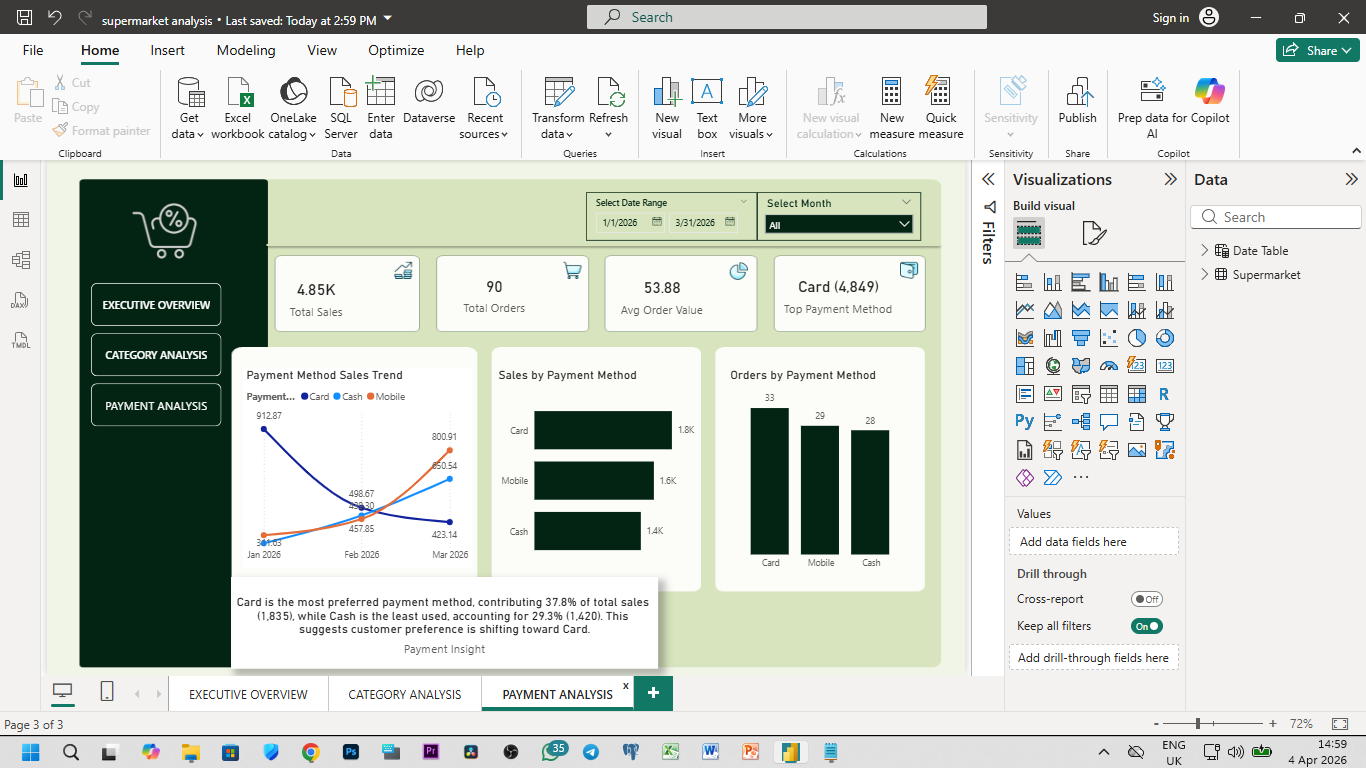

This screenshot's page, from the dashboard's own definition file:
{"tool":"powerbi","page":{"name":"PAYMENT ANALYSIS ","canvas":[1280,720],"ordinal":2},"visuals":[{"type":"card","fields":{"Values":["Supermarket.Total Sales"]},"box":[294.5,149.7,162.4,82.8],"z":0},{"type":"card","fields":{"Values":["Supermarket.Avg Order Value"]},"box":[780.1,143.3,156,89.2],"z":1000},{"type":"columnChart","title":"Total Orders by Payment Method","fields":{"Y":["Supermarket.Total Orders"],"Category":["Supermarket.PaymentMethod"]},"box":[936.1,289.8,262.7,291.3],"z":2000},{"type":"slicer","fields":{"Values":["Date Table.Date"]},"box":[751.4,44.6,238.8,68.5],"z":3000},{"type":"slicer","fields":{"Values":["Date Table.Month Year"]},"box":[990.2,44.6,229.3,68.5],"z":4000},{"type":"pageNavigator","box":[58.6,171.6,182.8,200.9],"z":5000},{"type":"lineChart","title":"Payment Method Sales Trend","fields":{"Category":["Date Table.Month Year"],"Y":["Supermarket.Total Sales"],"Series":["Supermarket.PaymentMethod"]},"box":[278.6,289.8,320,280.2],"z":6000},{"type":"clusteredBarChart","title":"Total Sales by Payment Method","fields":{"Category":["Supermarket.PaymentMethod"],"Y":["Supermarket.Total Sales"]},"box":[625.7,289.8,285,291.3],"z":7000},{"type":"card","fields":{"Values":["Supermarket.Payment Insight"]},"box":[256.7,581.9,595.8,128.4],"z":8000},{"type":"card","fields":{"Values":["Supermarket.Total Orders"]},"box":[547.7,141.7,154.4,87.6],"z":9000},{"type":"card","fields":{"Values":["Supermarket.Top Payment Method Display"]},"box":[1002.3,131.2,204.4,111.4],"z":10000}]}

Visuals, with their boxes on the page's 1280x720 design canvas (x1, y1, x2, y2). These are canvas units, not pixel positions in the 1366x768 screenshot, which may show the page scaled, cropped or inside an application window:
card - Supermarket.Total Sales: (x1=294, y1=150, x2=457, y2=232)
card - Supermarket.Avg Order Value: (x1=780, y1=143, x2=936, y2=232)
"Total Orders by Payment Method" columnChart: (x1=936, y1=290, x2=1199, y2=581)
slicer - Date Table.Date: (x1=751, y1=45, x2=990, y2=113)
slicer - Date Table.Month Year: (x1=990, y1=45, x2=1220, y2=113)
pageNavigator: (x1=59, y1=172, x2=241, y2=372)
"Payment Method Sales Trend" lineChart: (x1=279, y1=290, x2=599, y2=570)
"Total Sales by Payment Method" clusteredBarChart: (x1=626, y1=290, x2=911, y2=581)
card - Supermarket.Payment Insight: (x1=257, y1=582, x2=852, y2=710)
card - Supermarket.Total Orders: (x1=548, y1=142, x2=702, y2=229)
card - Supermarket.Top Payment Method Display: (x1=1002, y1=131, x2=1207, y2=243)
